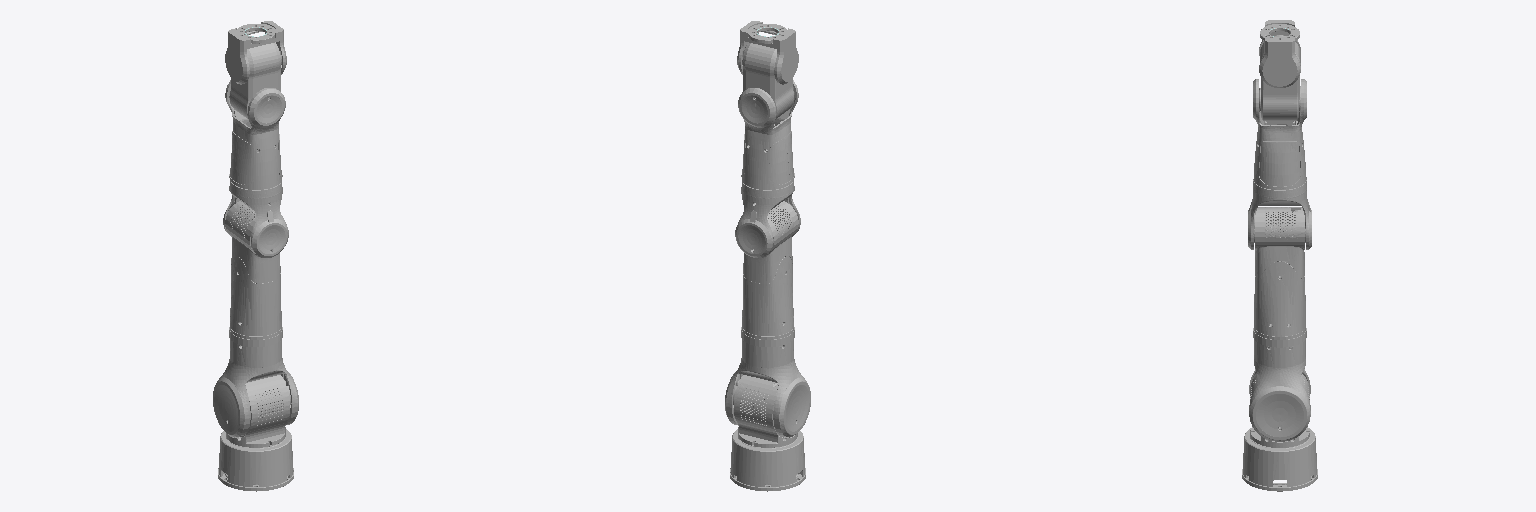
The robot description file, URDF, robot "A7_V2.0":
<?xml version="1.0" encoding="utf-8"?>
<!-- This URDF was automatically created by SolidWorks to URDF Exporter! Originally created by Stephen Brawner (brawner@gmail.com) 
     Commit Version: 1.6.0-1-g15f4949  Build Version: 1.6.7594.29634
     For more information, please see http://wiki.ros.org/sw_urdf_exporter -->
<robot
  name="A7_V2.0">
  <link
    name="base_link">
    <inertial>
      <origin
        xyz="2.9476E-06 0.00059109 0.035945"
        rpy="0 0 0" />
      <mass
        value="1.3934" />
      <inertia
        ixx="0.0010366"
        ixy="-4.6571E-06"
        ixz="-1.0004E-09"
        iyy="0.00092144"
        iyz="-1.646E-06"
        izz="0.0015392" />
    </inertial>
    <visual>
      <origin
        xyz="0 0 0"
        rpy="0 0 0" />
      <geometry>
        <mesh
          filename="meshes/base_link.STL" />
      </geometry>
      <material
        name="">
        <color
          rgba="0.75294 0.75294 0.75294 1" />
      </material>
    </visual>
    <collision>
      <origin
        xyz="0 0 0"
        rpy="0 0 0" />
      <geometry>
        <mesh
          filename="meshes/base_link.STL" />
      </geometry>
    </collision>
  </link>
  <link
    name="A1_Link">
    <inertial>
      <origin
        xyz="0.0026942 -0.00010595 0.053498"
        rpy="0 0 0" />
      <mass
        value="1.3809" />
      <inertia
        ixx="0.0011393"
        ixy="9.944E-09"
        ixz="-2.2259E-06"
        iyy="0.00068756"
        iyz="-1.0591E-06"
        izz="0.00065344" />
    </inertial>
    <visual>
      <origin
        xyz="0 0 0"
        rpy="0 0 0" />
      <geometry>
        <mesh
          filename="meshes/A1_Link.STL" />
      </geometry>
      <material
        name="">
        <color
          rgba="0.75294 0.75294 0.75294 1" />
      </material>
    </visual>
    <collision>
      <origin
        xyz="0 0 0"
        rpy="0 0 0" />
      <geometry>
        <mesh
          filename="meshes/A1_Link.STL" />
      </geometry>
    </collision>
  </link>
  <joint
    name="A1_Joint"
    type="revolute">
    <origin
      xyz="0 0 0.0645"
      rpy="0 0 0" />
    <parent
      link="base_link" />
    <child
      link="A1_Link" />
    <axis
      xyz="0 0 1" />
    <limit
      lower="-2.91"
      upper="2.91"
      effort="80"
      velocity="10.47" />
  </joint>
  <link
    name="A2_Link">
    <inertial>
      <origin
        xyz="0.0016184 -8.1895E-06 0.079574"
        rpy="0 0 0" />
      <mass
        value="1.1421" />
      <inertia
        ixx="0.00099926"
        ixy="-4.3839E-06"
        ixz="1.3411E-06"
        iyy="0.0009296"
        iyz="2.7915E-07"
        izz="0.00049087" />
    </inertial>
    <visual>
      <origin
        xyz="0 0 0"
        rpy="0 0 0" />
      <geometry>
        <mesh
          filename="meshes/A2_Link.STL" />
      </geometry>
      <material
        name="">
        <color
          rgba="0.75294 0.75294 0.75294 1" />
      </material>
    </visual>
    <collision>
      <origin
        xyz="0 0 0"
        rpy="0 0 0" />
      <geometry>
        <mesh
          filename="meshes/A2_Link.STL" />
      </geometry>
    </collision>
  </link>
  <joint
    name="A2_Joint"
    type="revolute">
    <origin
      xyz="0 0 0.058"
      rpy="0 0 0" />
    <parent
      link="A1_Link" />
    <child
      link="A2_Link" />
    <axis
      xyz="1 0 0" />
    <limit
      lower="-1.64"
      upper="1.64"
      effort="80"
      velocity="10.47" />
  </joint>
  <link
    name="A3_Link">
    <inertial>
      <origin
        xyz="0.00018108 -0.0012493 0.12855"
        rpy="0 0 0" />
      <mass
        value="1.2798" />
      <inertia
        ixx="0.001581"
        ixy="-7.7193E-07"
        ixz="8.6942E-07"
        iyy="0.0016315"
        iyz="-2.4154E-06"
        izz="0.00034415" />
    </inertial>
    <visual>
      <origin
        xyz="0 0 0"
        rpy="0 0 0" />
      <geometry>
        <mesh
          filename="meshes/A3_Link.STL" />
      </geometry>
      <material
        name="">
        <color
          rgba="0.75294 0.75294 0.75294 1" />
      </material>
    </visual>
    <collision>
      <origin
        xyz="0 0 0"
        rpy="0 0 0" />
      <geometry>
        <mesh
          filename="meshes/A3_Link.STL" />
      </geometry>
    </collision>
  </link>
  <joint
    name="A3_Joint"
    type="revolute">
    <origin
      xyz="-2.5027E-05 0 0.123"
      rpy="0 0 0" />
    <parent
      link="A2_Link" />
    <child
      link="A3_Link" />
    <axis
      xyz="0 0 1" />
    <limit
      lower="-2.69"
      upper="2.69"
      effort="36"
      velocity="9.1" />
  </joint>
  <link
    name="A4_Link">
    <inertial>
      <origin
        xyz="-4.5339E-06 -0.00098093 0.084098"
        rpy="0 0 0" />
      <mass
        value="0.94109" />
      <inertia
        ixx="0.00050831"
        ixy="4.1242E-06"
        ixz="1.6031E-07"
        iyy="0.00052415"
        iyz="-3.4576E-07"
        izz="0.00033405" />
    </inertial>
    <visual>
      <origin
        xyz="0 0 0"
        rpy="0 0 0" />
      <geometry>
        <mesh
          filename="meshes/A4_Link.STL" />
      </geometry>
      <material
        name="">
        <color
          rgba="0.75294 0.75294 0.75294 1" />
      </material>
    </visual>
    <collision>
      <origin
        xyz="0 0 0"
        rpy="0 0 0" />
      <geometry>
        <mesh
          filename="meshes/A4_Link.STL" />
      </geometry>
    </collision>
  </link>
  <joint
    name="A4_Joint"
    type="revolute">
    <origin
      xyz="2.5124E-05 0 0.1621"
      rpy="0 0 0" />
    <parent
      link="A3_Link" />
    <child
      link="A4_Link" />
    <axis
      xyz="0 1 0" />
    <limit
      lower="-2.05"
      upper="2.05"
      effort="36"
      velocity="9.1" />
  </joint>
  <link
    name="A5_Link">
    <inertial>
      <origin
        xyz="-7.5417E-05 -0.0018019 0.037052"
        rpy="0 0 0" />
      <mass
        value="0.30345" />
      <inertia
        ixx="0.00035395"
        ixy="-8.4489E-07"
        ixz="1.0439E-06"
        iyy="0.00038269"
        iyz="1.7802E-06"
        izz="0.00010171" />
    </inertial>
    <visual>
      <origin
        xyz="0 0 0"
        rpy="0 0 0" />
      <geometry>
        <mesh
          filename="meshes/A5_Link.STL" />
      </geometry>
      <material
        name="">
        <color
          rgba="0.75294 0.75294 0.75294 1" />
      </material>
    </visual>
    <collision>
      <origin
        xyz="0 0 0"
        rpy="0 0 0" />
      <geometry>
        <mesh
          filename="meshes/A5_Link.STL" />
      </geometry>
    </collision>
  </link>
  <joint
    name="A5_Joint"
    type="revolute">
    <origin
      xyz="0 0 0.124"
      rpy="0 0 0" />
    <parent
      link="A4_Link" />
    <child
      link="A5_Link" />
    <axis
      xyz="0 0 1" />
    <limit
      lower="-2.69"
      upper="2.69"
      effort="36"
      velocity="9.1" />
  </joint>
  <link
    name="A6_Link">
    <inertial>
      <origin
        xyz="0.0042338 0.0043863 0.032482"
        rpy="0 0 0" />
      <mass
        value="0.34433" />
      <inertia
        ixx="0.0001944"
        ixy="-1.3389E-06"
        ixz="-9.4704E-06"
        iyy="0.00023388"
        iyz="2.8728E-07"
        izz="0.00010146" />
    </inertial>
    <visual>
      <origin
        xyz="0 0 0"
        rpy="0 0 0" />
      <geometry>
        <mesh
          filename="meshes/A6_Link.STL" />
      </geometry>
      <material
        name="">
        <color
          rgba="0.75294 0.75294 0.75294 1" />
      </material>
    </visual>
    <collision>
      <origin
        xyz="0 0 0"
        rpy="0 0 0" />
      <geometry>
        <mesh
          filename="meshes/A6_Link.STL" />
      </geometry>
    </collision>
  </link>
  <joint
    name="A6_Joint"
    type="revolute">
    <origin
      xyz="0 0 0.0881"
      rpy="0 0 0" />
    <parent
      link="A5_Link" />
    <child
      link="A6_Link" />
    <axis
      xyz="0 1 0" />
    <limit
      lower="-1.59"
      upper="1.59"
      effort="18"
      velocity="7.33" />
  </joint>
  <link
    name="A7_Link">
    <inertial>
      <origin
        xyz="-0.0033322 -1.0729E-06 0.020243"
        rpy="0 0 0" />
      <mass
        value="0.14331" />
      <inertia
        ixx="6.9817E-05"
        ixy="-2.7113E-07"
        ixz="3.1827E-08"
        iyy="5.4868E-05"
        iyz="-6.307E-13"
        izz="4.4021E-05" />
    </inertial>
    <visual>
      <origin
        xyz="0 0 0"
        rpy="0 0 0" />
      <geometry>
        <mesh
          filename="meshes/A7_Link.STL" />
      </geometry>
      <material
        name="">
        <color
          rgba="0.75294 0.75294 0.75294 1" />
      </material>
    </visual>
    <collision>
      <origin
        xyz="0 0 0"
        rpy="0 0 0" />
      <geometry>
        <mesh
          filename="meshes/A7_Link.STL" />
      </geometry>
    </collision>
  </link>
  <joint
    name="A7_Joint"
    type="revolute">
    <origin
      xyz="0 0 0.0655"
      rpy="0 0 0" />
    <parent
      link="A6_Link" />
    <child
      link="A7_Link" />
    <axis
      xyz="1 0 0" />
    <limit
      lower="-1.59"
      upper="1.59"
      effort="18"
      velocity="7.33" />
  </joint>
  <link
    name="A8_Link">
    <inertial>
      <origin
        xyz="1.0381E-10 5.2909E-11 -0.0005"
        rpy="0 0 0" />
      <mass
        value="6.0515E-05" />
      <inertia
        ixx="8.496E-09"
        ixy="1.8809E-22"
        ixz="-1.7618E-15"
        iyy="8.496E-09"
        iyz="-9.0596E-16"
        izz="1.6982E-08" />
    </inertial>
    <visual>
      <origin
        xyz="0 0 0"
        rpy="0 0 0" />
      <geometry>
        <mesh
          filename="meshes/A8_Link.STL" />
      </geometry>
      <material
        name="">
        <color
          rgba="0.78039 0.97255 0.95686 1" />
      </material>
    </visual>
    <collision>
      <origin
        xyz="0 0 0"
        rpy="0 0 0" />
      <geometry>
        <mesh
          filename="meshes/A8_Link.STL" />
      </geometry>
    </collision>
  </link>
  <joint
    name="A8_Joint"
    type="fixed">
    <origin
      xyz="0 0 0.0455"
      rpy="0 0 0" />
    <parent
      link="A7_Link" />
    <child
      link="A8_Link" />
    <axis
      xyz="0 0 0" />
  </joint>
</robot>

--- Render facts (derived) ---
Views: 3 orthographic renders of the robot side by side, from view 1: azimuth 30°, elevation 25°; view 2: azimuth 150°, elevation 25°; view 3: azimuth 270°, elevation 25°.
Robot: A7_V2.0 — 9 links, 8 joints (7 revolute, 1 fixed); root link base_link; default pose: every joint at zero.
Visible links, largest first — view 1: A3_Link, A2_Link, A5_Link, base_link, A1_Link, A4_Link, A7_Link, A6_Link; view 2: A3_Link, A2_Link, A5_Link, base_link, A1_Link, A4_Link, A6_Link, A7_Link; view 3: A3_Link, A2_Link, A5_Link, base_link, A7_Link, A4_Link, A6_Link, A1_Link.
Link boxes in pixels (x1,y1,x2,y2): A3_Link: [225, 201, 281, 335]; A2_Link: [213, 327, 298, 437]; A5_Link: [225, 80, 285, 189]; base_link: [218, 429, 293, 491]; A1_Link: [226, 375, 289, 447]; A4_Link: [223, 181, 288, 257]; A7_Link: [225, 21, 286, 84]; A6_Link: [229, 42, 280, 118]; A3_Link: [742, 201, 798, 335]; A2_Link: [725, 327, 810, 437]; A5_Link: [738, 80, 798, 189]; base_link: [730, 429, 805, 491]; A1_Link: [734, 375, 797, 447]; A4_Link: [735, 181, 800, 257]; A6_Link: [742, 42, 793, 119]; A7_Link: [737, 21, 798, 84]; A3_Link: [1254, 207, 1305, 336]; A2_Link: [1249, 328, 1310, 441]; A5_Link: [1253, 79, 1306, 189]; base_link: [1242, 428, 1317, 491]; A7_Link: [1259, 20, 1300, 87]; A4_Link: [1248, 180, 1311, 249]; A6_Link: [1260, 35, 1300, 120]; A1_Link: [1250, 374, 1309, 447].
Bounding box of the posed robot: 0.1146 × 0.115 × 0.7329 m (x, y, z).
9 mesh visuals loaded from 9 distinct referenced files (9 binary STL).
